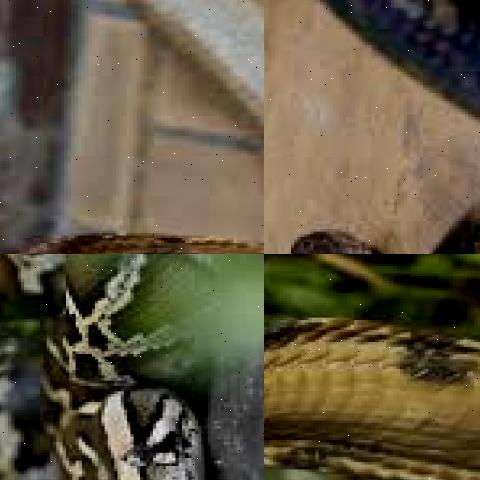1: (0, 0, 264, 254)
3: (264, 167, 480, 254)
5: (264, 285, 480, 480)
snake: (0, 254, 246, 480)
